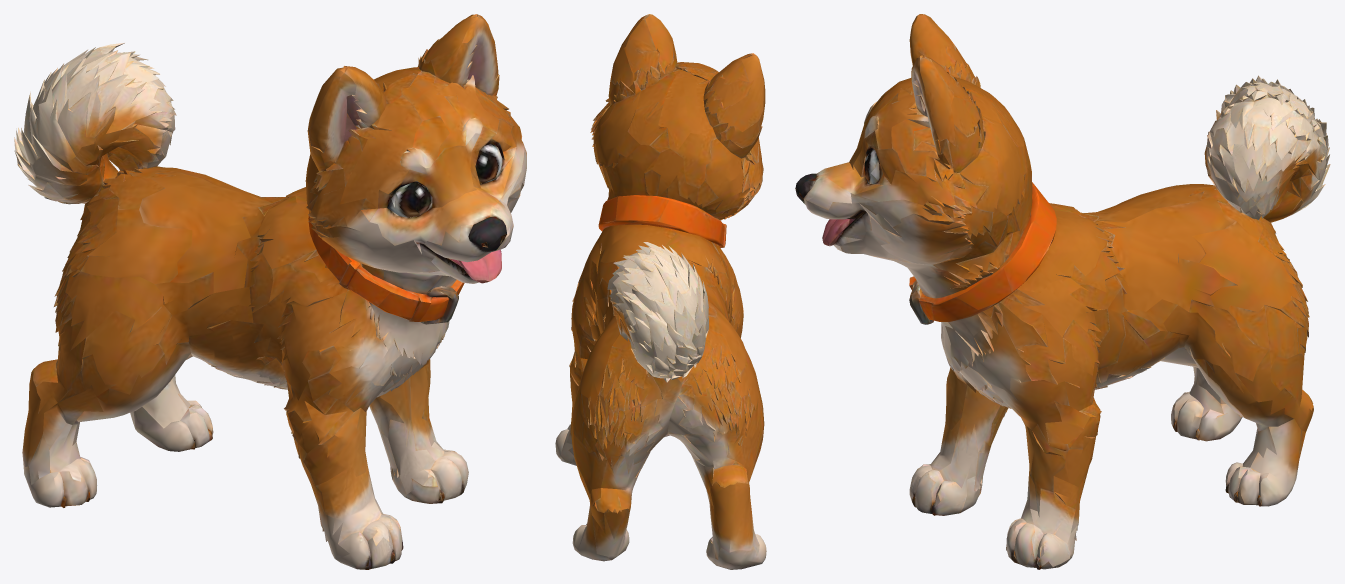
File: dog.glb
The picture shows the model from 3 angles, left to right: view 1: azimuth 30°, elevation 25°; view 2: azimuth 150°, elevation 25°; view 3: azimuth 270°, elevation 25°; orthographic projection. The views are drawn at different scales.
Bounding box in the file's own units: 1.32 × 1.9 × 1.88.
1 material, 1 textured.
